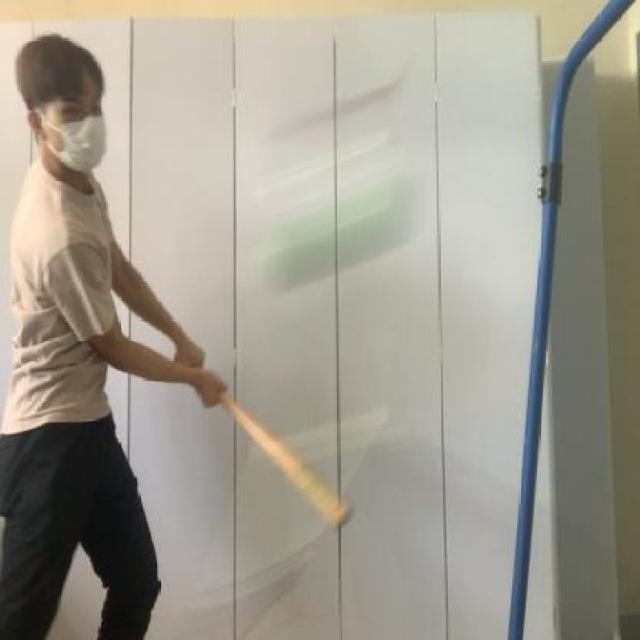baseball: (245, 146, 437, 296)
